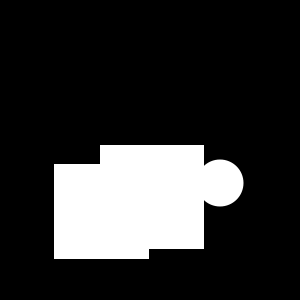circle: (100, 145, 204, 249), (54, 164, 149, 259)
rectangle: (196, 160, 244, 206)
